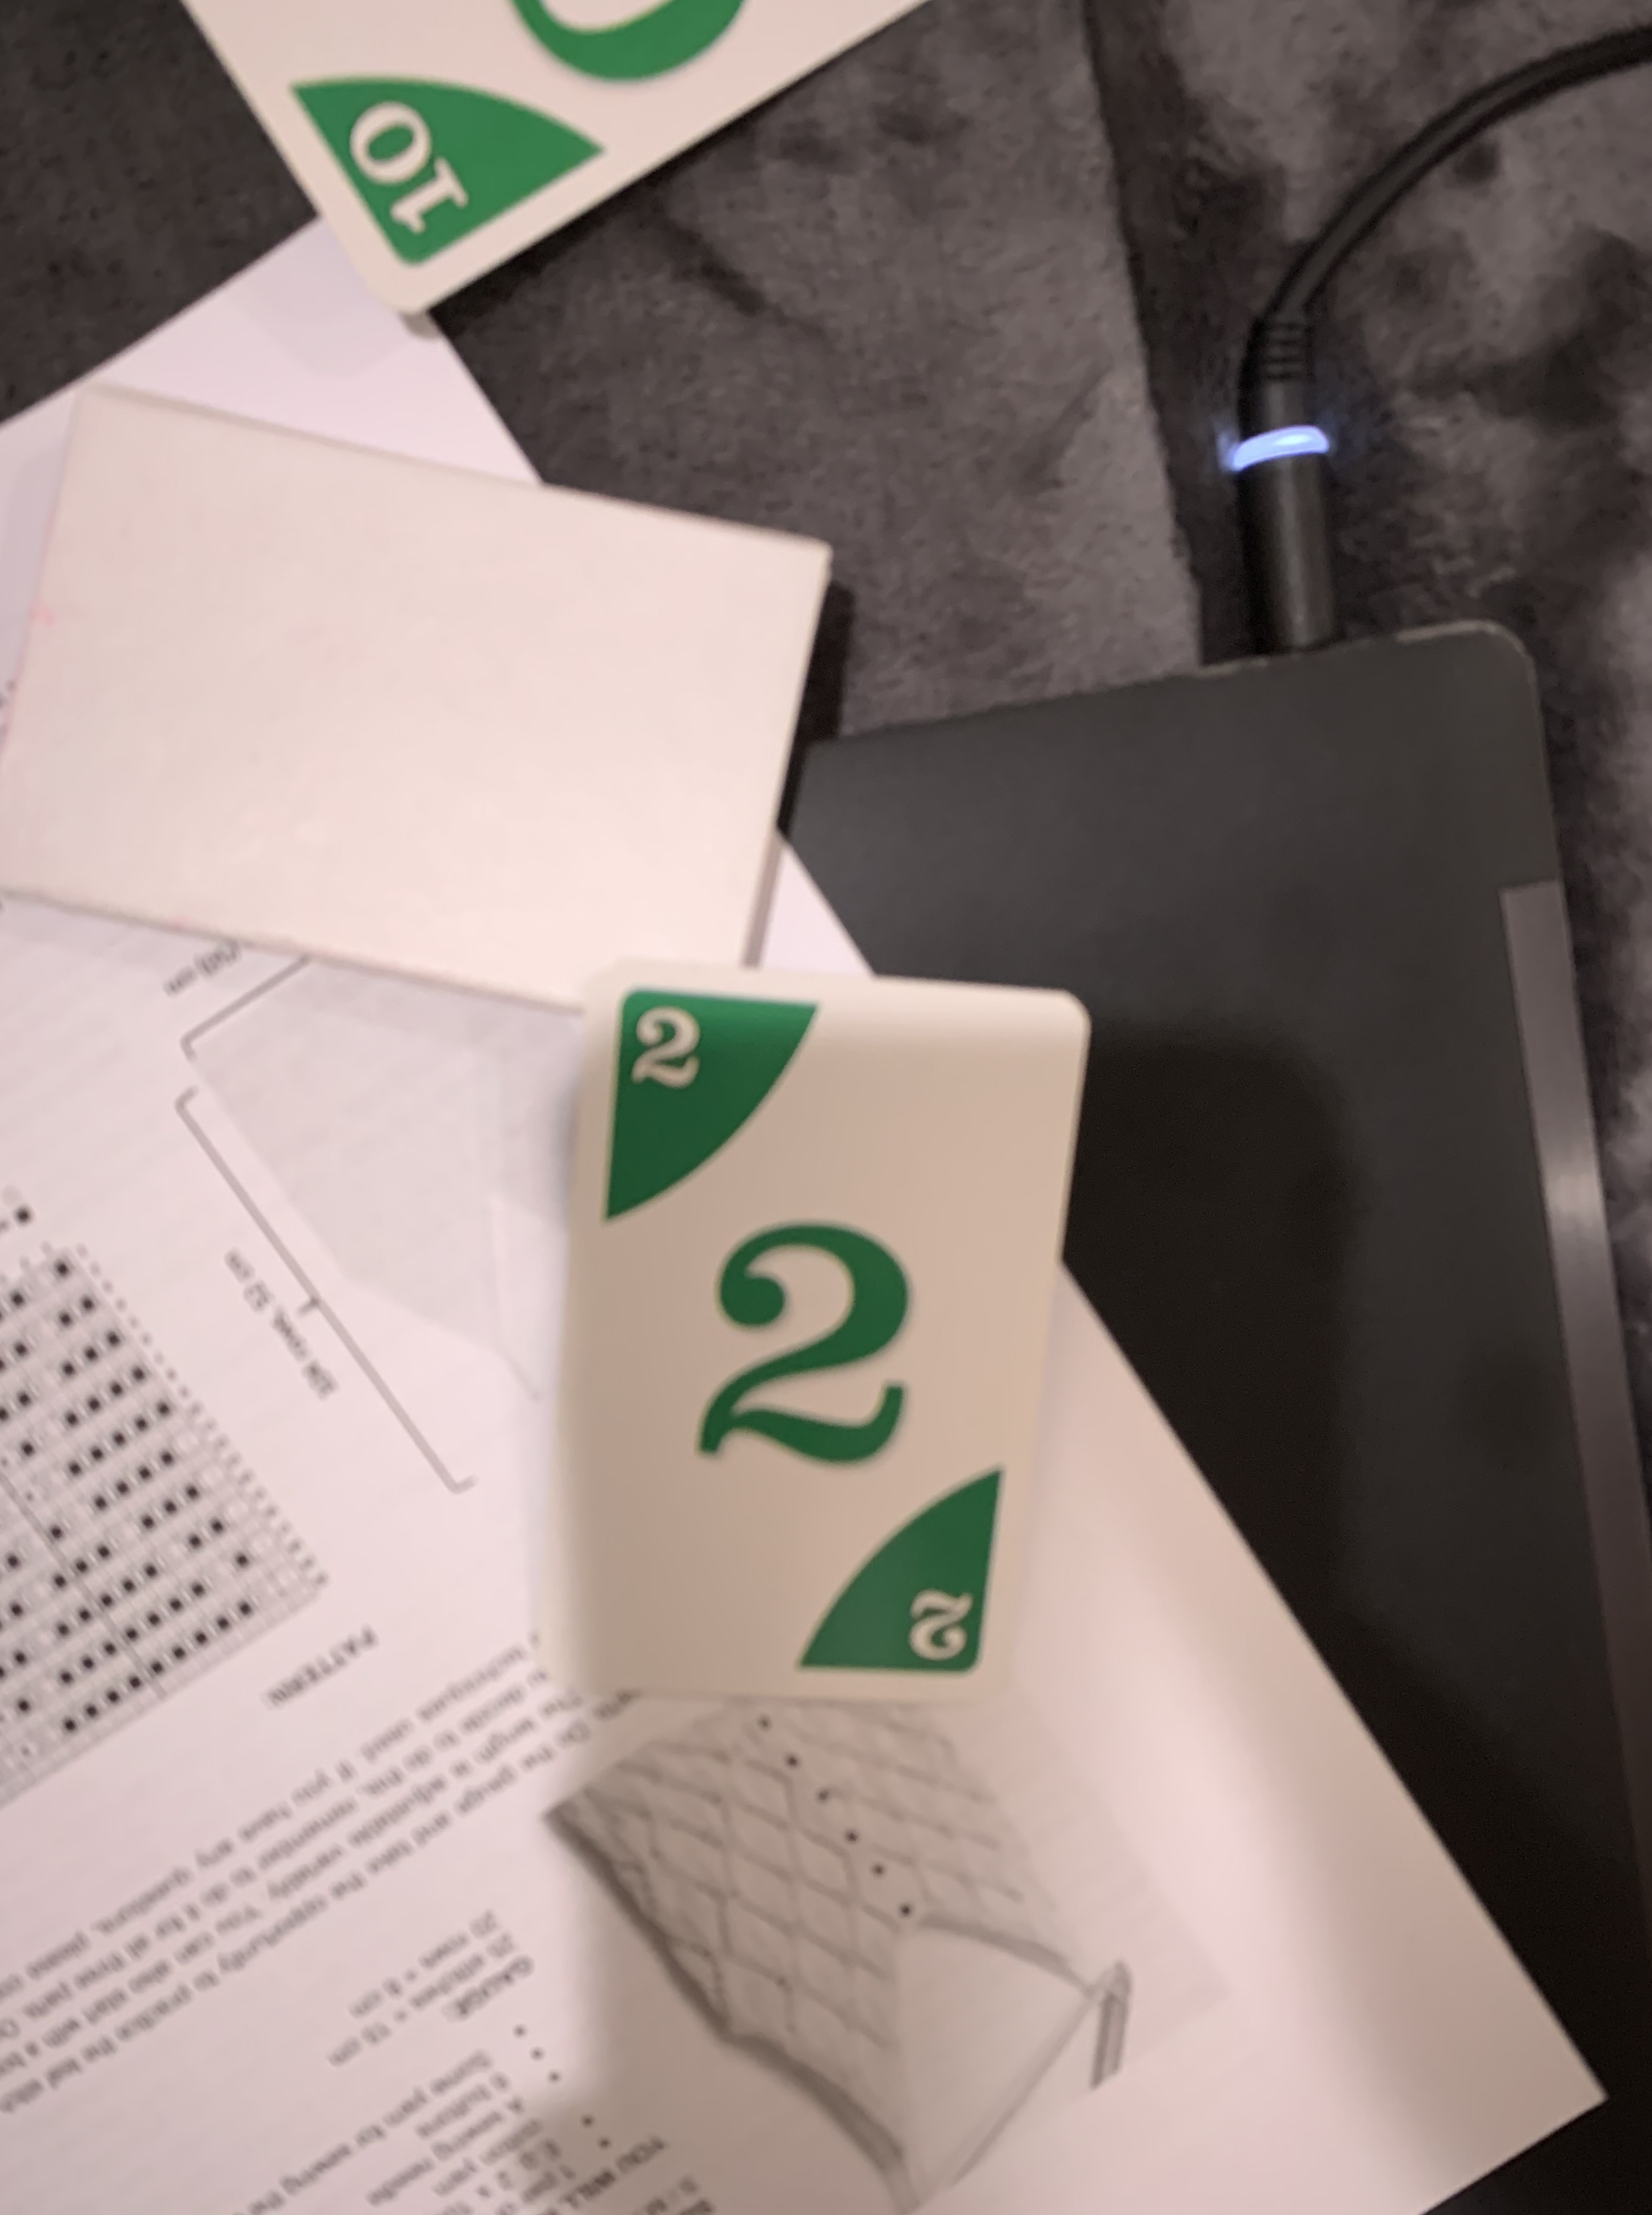two: (536, 956, 1102, 1722)
